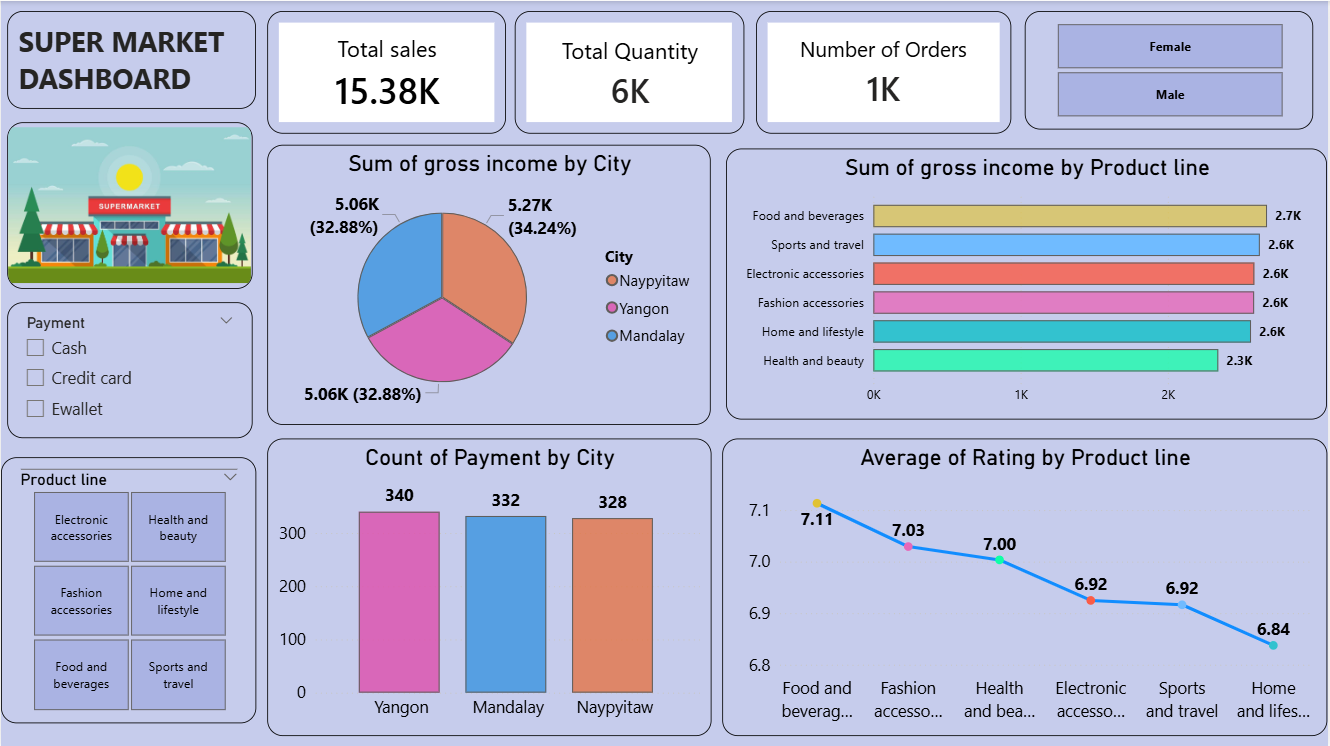

The dashboard page shown, as its layout file describes it:
{"tool":"powerbi","page":{"name":"Page 1","canvas":[1280,720],"ordinal":0},"visuals":[{"type":"cardVisual","fields":{"Data":["Query1.Total Income"]},"box":[257,9.7,230.4,118.2],"z":0,"group":"g1"},{"type":"pieChart","fields":{"Category":["Query1.City"],"Y":["Sum(Query1.gross income)"]},"box":[257,142.4,439.1,270.2],"z":0},{"type":"cardVisual","fields":{"Data":["Query1.Total Quantity"]},"box":[495.9,9.7,222,118.2],"z":1000,"group":"g1"},{"type":"barChart","fields":{"Category":["Query1.Product line"],"Y":["Sum(Query1.gross income)"]},"box":[699.7,142.4,580.3,269],"z":1000},{"type":"cardVisual","fields":{"Data":["Query1.Number of Orders"]},"box":[726.3,9.7,240.1,114.6],"z":2000,"group":"g1"},{"type":"lineChart","fields":{"Y":["Avg(Query1.Rating)"],"Category":["Query1.Product line"]},"box":[696.1,412.6,583.9,296.8],"z":2000},{"type":"clusteredColumnChart","fields":{"Category":["Query1.City"],"Y":["CountNonNull(Query1.Payment)"]},"box":[256.8,422.7,428.5,287.1],"z":3000},{"type":"slicer","fields":{"Values":["Query1.Product line"]},"box":[0,440,246.7,256.8],"z":4000},{"type":"slicer","fields":{"Values":["Query1.Payment"]},"box":[5.8,256.8,236.6,165.9],"z":5000},{"type":"slicer","fields":{"Values":["Query1.Gender"]},"box":[976.7,2.9,290,132.7],"z":6000},{"type":"group","id":"g1","title":"Group 1","box":[257,9.7,709.4,118.2],"z":7000}]}

Visuals, with their boxes in screenshot pixels (x1, y1, x2, y2), scaled from the page's 1280x720 canvas onto the 1330x746 screenshot:
cardVisual - Query1.Total Income: <box>267,10,506,133</box>
pieChart - Query1.City x Sum(Query1.gross income): <box>267,148,723,427</box>
cardVisual - Query1.Total Quantity: <box>515,10,746,133</box>
barChart - Query1.Product line x Sum(Query1.gross income): <box>727,148,1329,426</box>
cardVisual - Query1.Number of Orders: <box>755,10,1004,129</box>
lineChart - Avg(Query1.Rating) x Query1.Product line: <box>723,427,1329,735</box>
clusteredColumnChart - Query1.City x CountNonNull(Query1.Payment): <box>267,438,712,735</box>
slicer - Query1.Product line: <box>0,456,256,722</box>
slicer - Query1.Payment: <box>6,266,252,438</box>
slicer - Query1.Gender: <box>1015,3,1316,140</box>
"Group 1" group: <box>267,10,1004,133</box>
